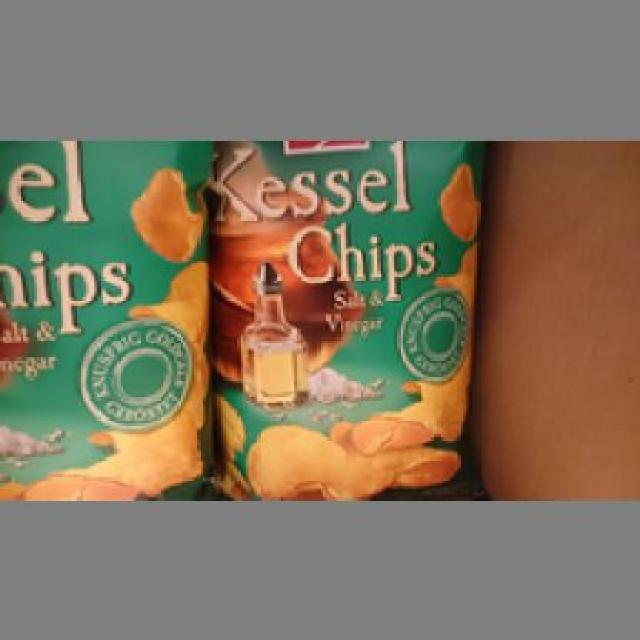Chips: (205, 140, 478, 494), (0, 137, 209, 494)
